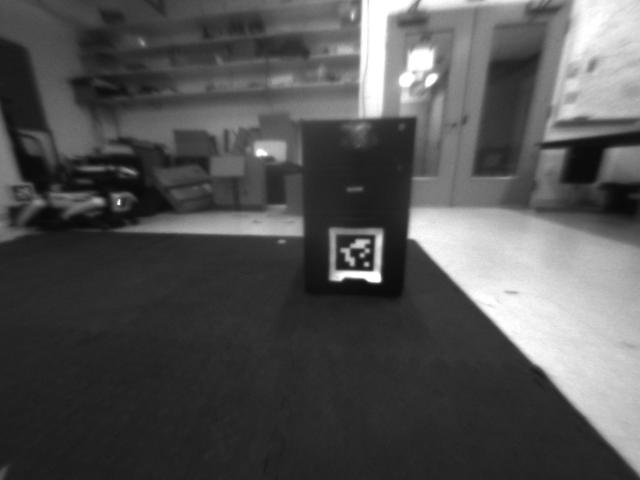door_handle: (440, 119, 460, 134)
drawer: (332, 120, 378, 157)
